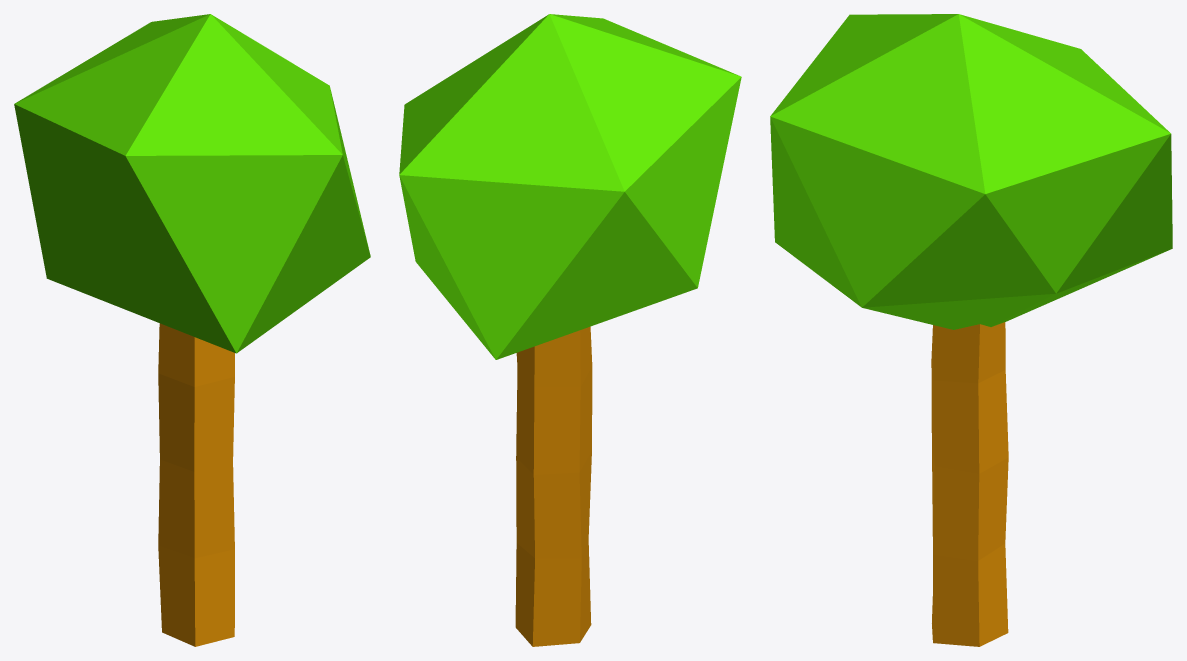
Rendered from tree4.glb.
The picture shows the model from 3 angles, left to right: view 1: azimuth 30°, elevation 25°; view 2: azimuth 150°, elevation 25°; view 3: azimuth 270°, elevation 25°; orthographic projection.
Parts seen in each view (by area): view 1: Icosphere.003, Tree.003; view 2: Icosphere.003, Tree.003; view 3: Icosphere.003, Tree.003.
Part boxes in pixels (x1,y1,x2,y2): Icosphere.003: [14, 14, 370, 353]; Tree.003: [158, 323, 234, 646]; Icosphere.003: [399, 14, 741, 359]; Tree.003: [515, 326, 592, 646]; Icosphere.003: [770, 14, 1172, 329]; Tree.003: [931, 322, 1008, 646].
Bounding box in the file's own units: 1.09 × 2.23 × 1.3.
